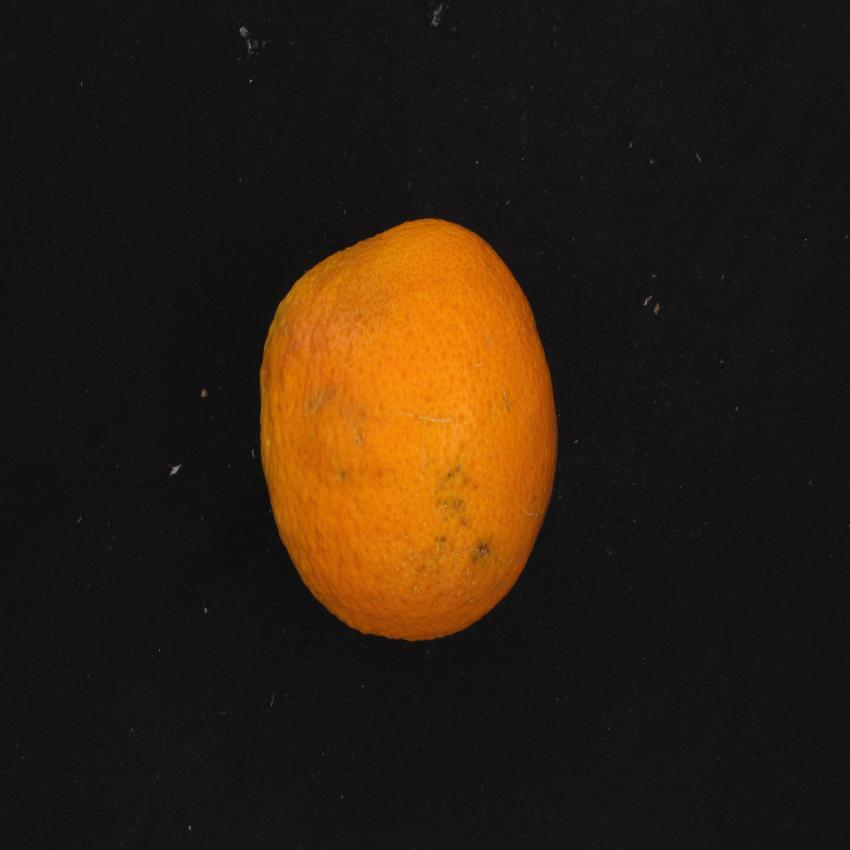Mal estado: (243, 201, 576, 657)
